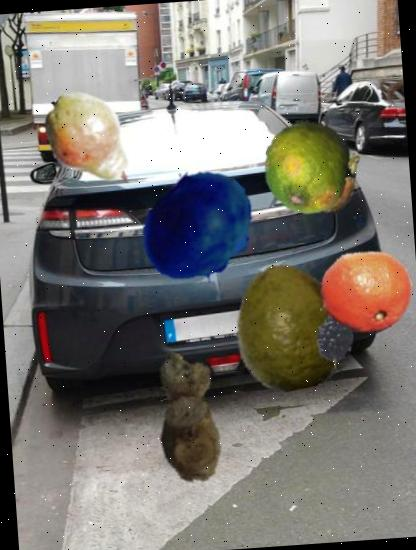Cactus: (304, 146, 376, 218)
Clementine: (314, 241, 416, 343)
Ginger: (116, 344, 260, 488)
Guava: (221, 256, 359, 394)
Huckleberry: (134, 163, 262, 292)
Limes: (260, 118, 361, 218)
Mulberry: (300, 306, 364, 371)
Pear: (31, 84, 149, 201)
